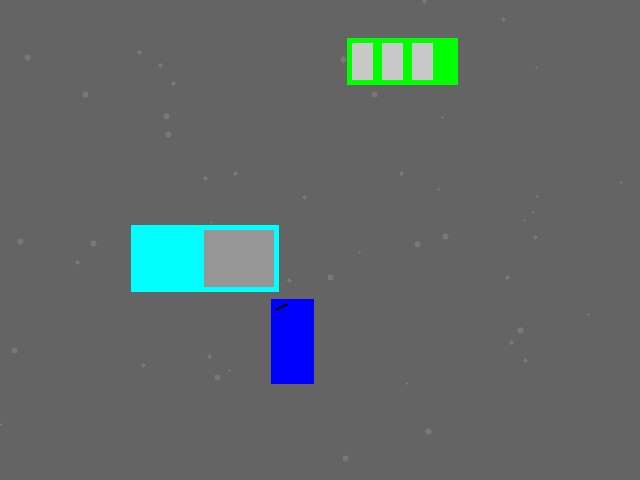bus: (347, 38, 457, 84)
motorcycle: (271, 299, 313, 383)
truck: (131, 225, 278, 291)
